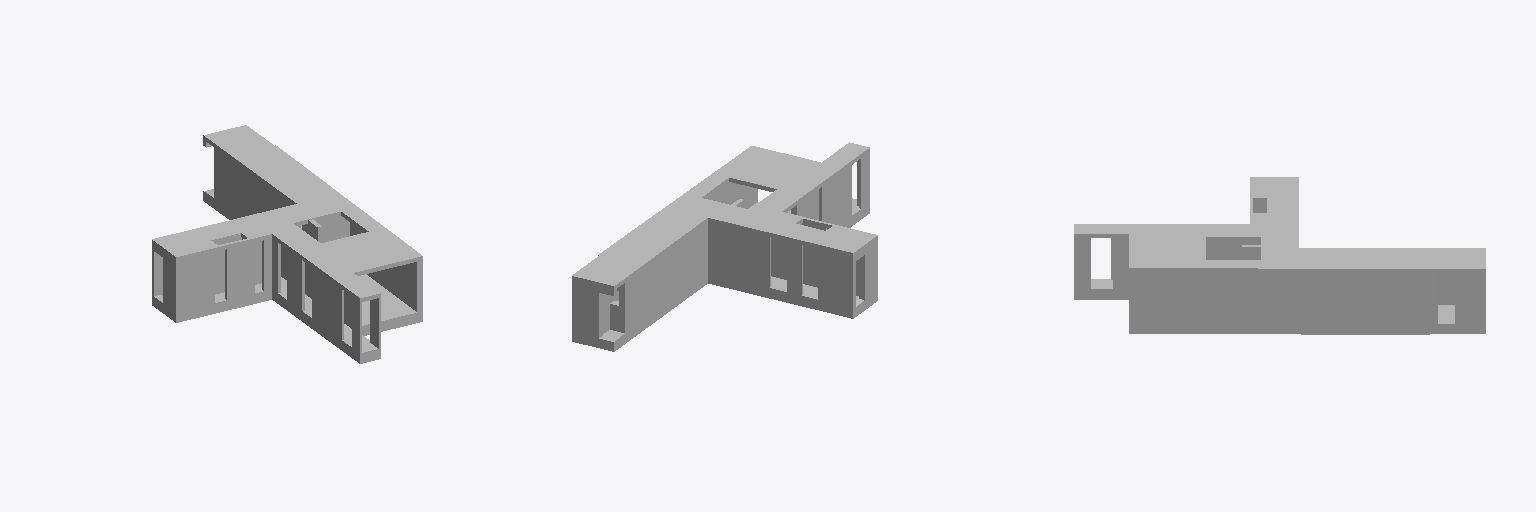
The model's file is couloirs_rdc.obj.
3 views of the same model, side by side, from view 1: azimuth 30°, elevation 25°; view 2: azimuth 150°, elevation 25°; view 3: azimuth 270°, elevation 25° (orthographic).
Parts seen in each view (by area): view 1: Couloirs_RDC_Cube.039; view 2: Couloirs_RDC_Cube.039; view 3: Couloirs_RDC_Cube.039.
Boxes of the visible parts, <box> form: Couloirs_RDC_Cube.039: <box>152,125,422,363</box>; Couloirs_RDC_Cube.039: <box>572,142,877,351</box>; Couloirs_RDC_Cube.039: <box>1074,177,1485,334</box>.
Bounding box in the file's own units: 9.35 × 3.1 × 17.62.